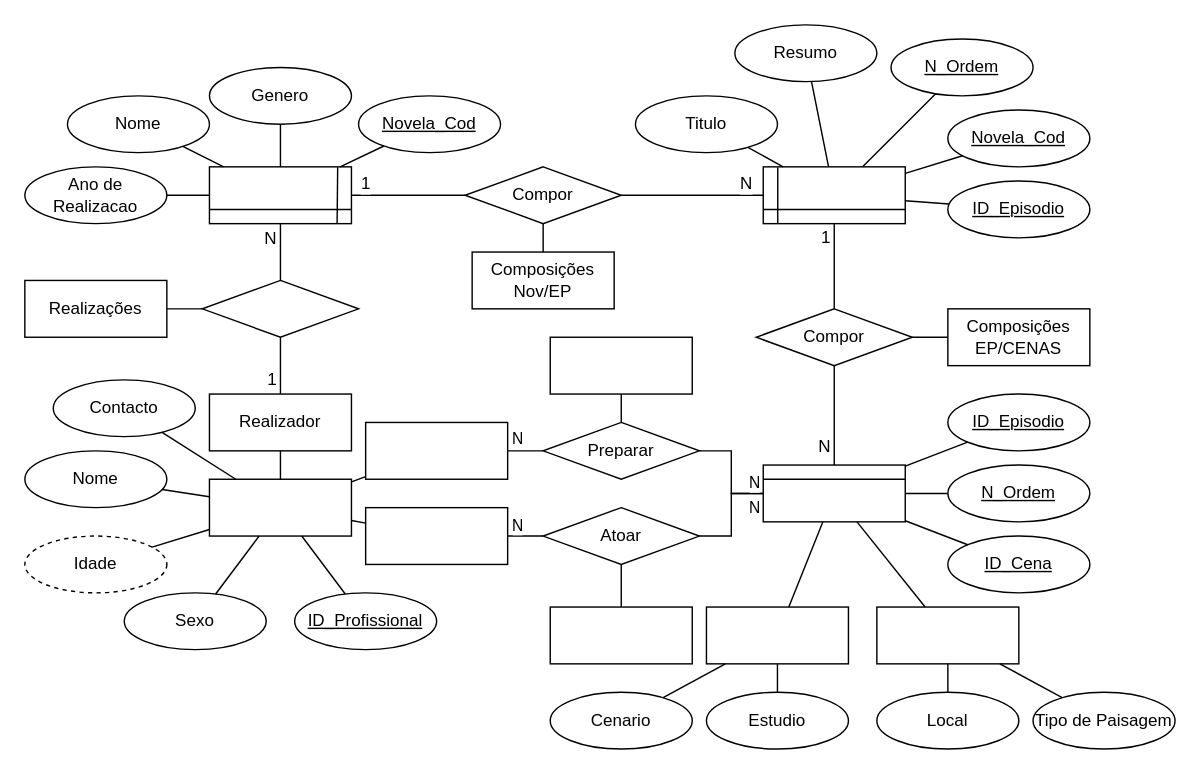
Image size: 1200x774. Some labels were removed from this diagram. The shapes that lost their labels are listed below. From the top down, each one's box as (x1, y1, x2, y2) in pixels, then its label:
(208, 165, 351, 224): Novela
(762, 165, 905, 224): Episódios
(201, 279, 359, 337): Realizar
(549, 336, 692, 394): Funções
(364, 421, 508, 479): Técnico
(208, 478, 351, 536): Profissional
(762, 464, 905, 522): Cenas
(364, 506, 508, 564): Ator
(549, 606, 692, 664): Papeis
(705, 606, 848, 664): Interiores
(875, 606, 1019, 664): Exteriores
